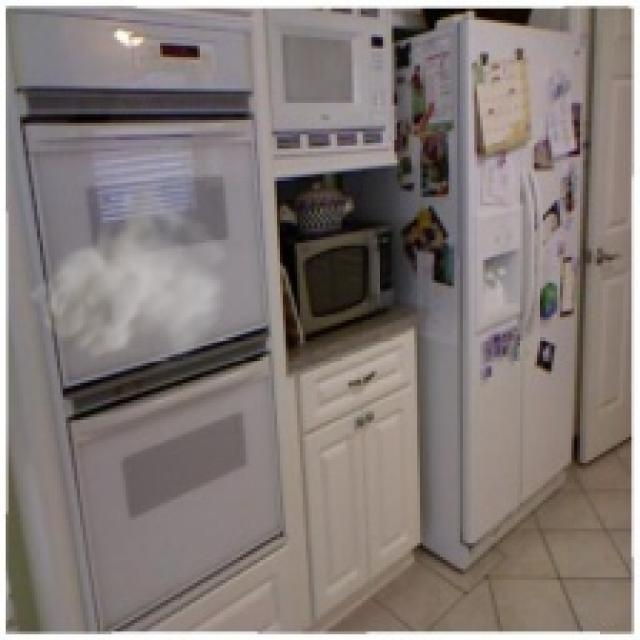smoke: (26, 171, 234, 380)
